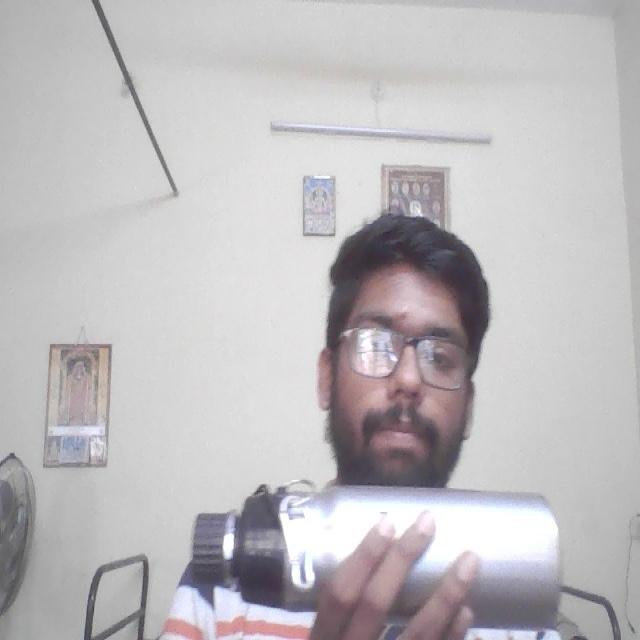Drinking: (176, 488, 567, 631)
